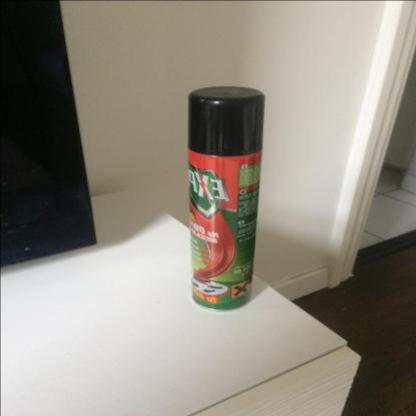Can: (188, 87, 265, 312)
Lid: (188, 86, 265, 156)
